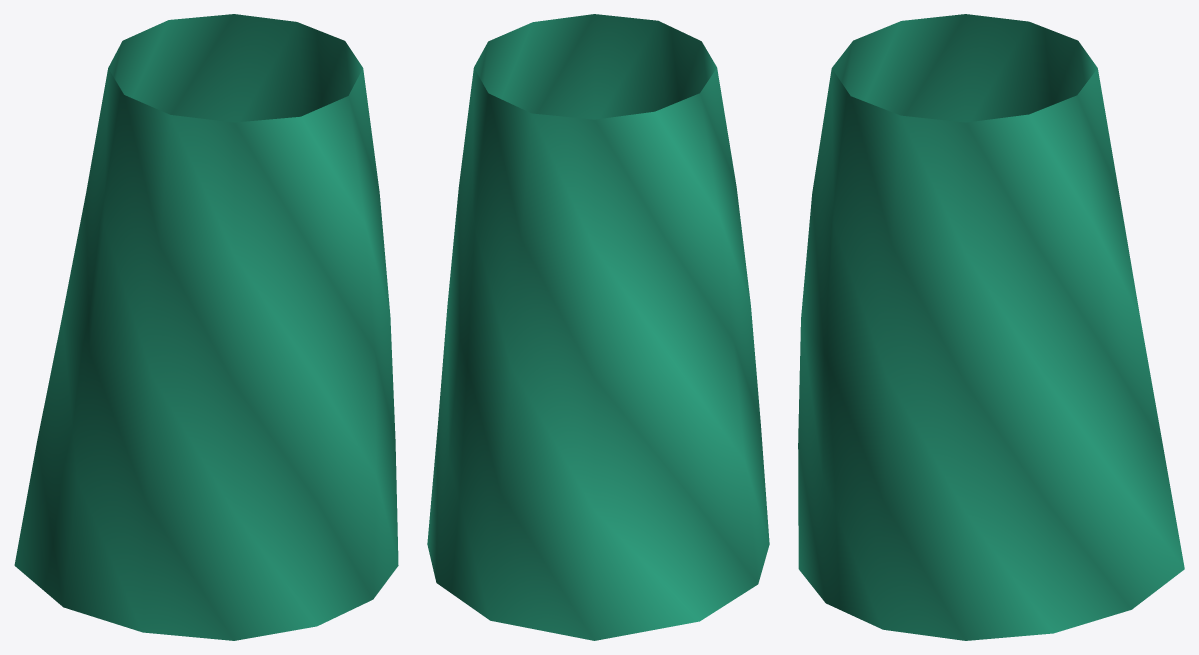
Rendered from mythril_armor_cuisse.R.glb.
3 views of the same model, side by side, from view 1: azimuth 30°, elevation 25°; view 2: azimuth 150°, elevation 25°; view 3: azimuth 270°, elevation 25° (orthographic). The views are drawn at different scales.
Visible parts, largest first — view 1: mythril_armor_cuisse.R; view 2: mythril_armor_cuisse.R; view 3: mythril_armor_cuisse.R.
Boxes of the visible parts, box(x1,y1,x2,y2) form: mythril_armor_cuisse.R: box(14, 14, 398, 640); mythril_armor_cuisse.R: box(427, 14, 769, 640); mythril_armor_cuisse.R: box(798, 14, 1184, 640).
Bounding box in the file's own units: 0.2466 × 0.37 × 0.2587.
